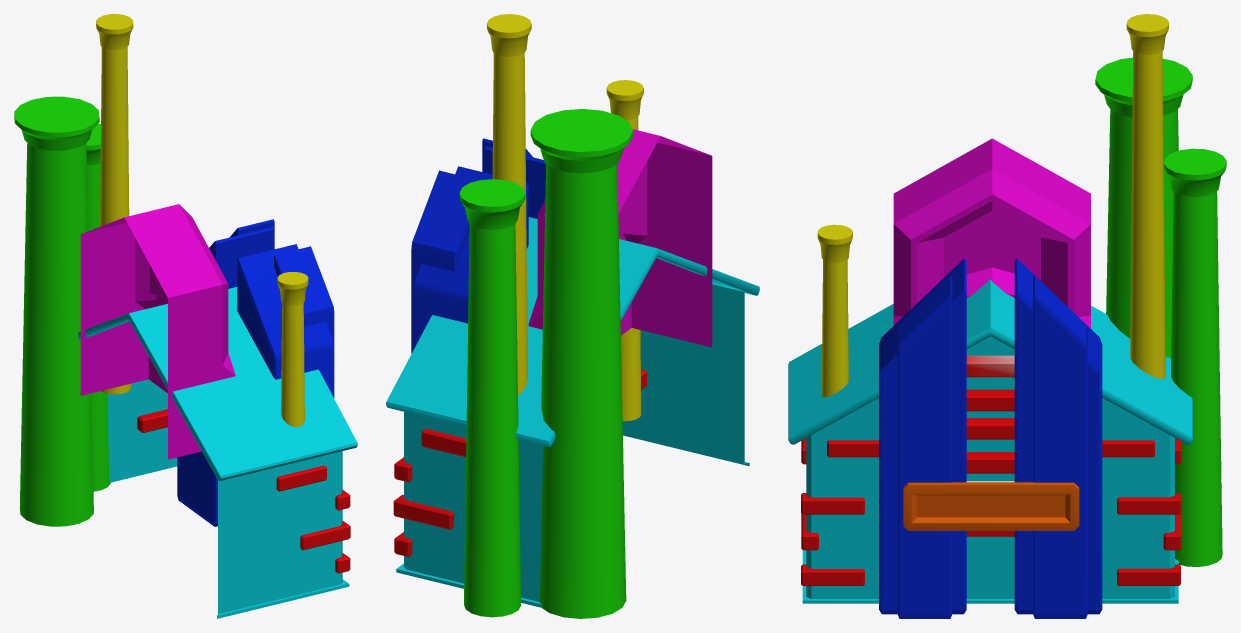
File: FAbbrica1.fbx
3 views of the same model, side by side, from view 1: azimuth 30°, elevation 25°; view 2: azimuth 150°, elevation 25°; view 3: azimuth 270°, elevation 25° (orthographic). The views are drawn at different scales.
Parts seen in each view (by area): view 1: Cube.131; view 2: Cube.131; view 3: Cube.131.
Boxes of the visible parts, x1,y1,x2,y2 form: Cube.131: (14, 14, 357, 618); Cube.131: (386, 14, 759, 618); Cube.131: (788, 14, 1226, 618).
Bounding box in the file's own units: 3174 × 6792 × 5030.
